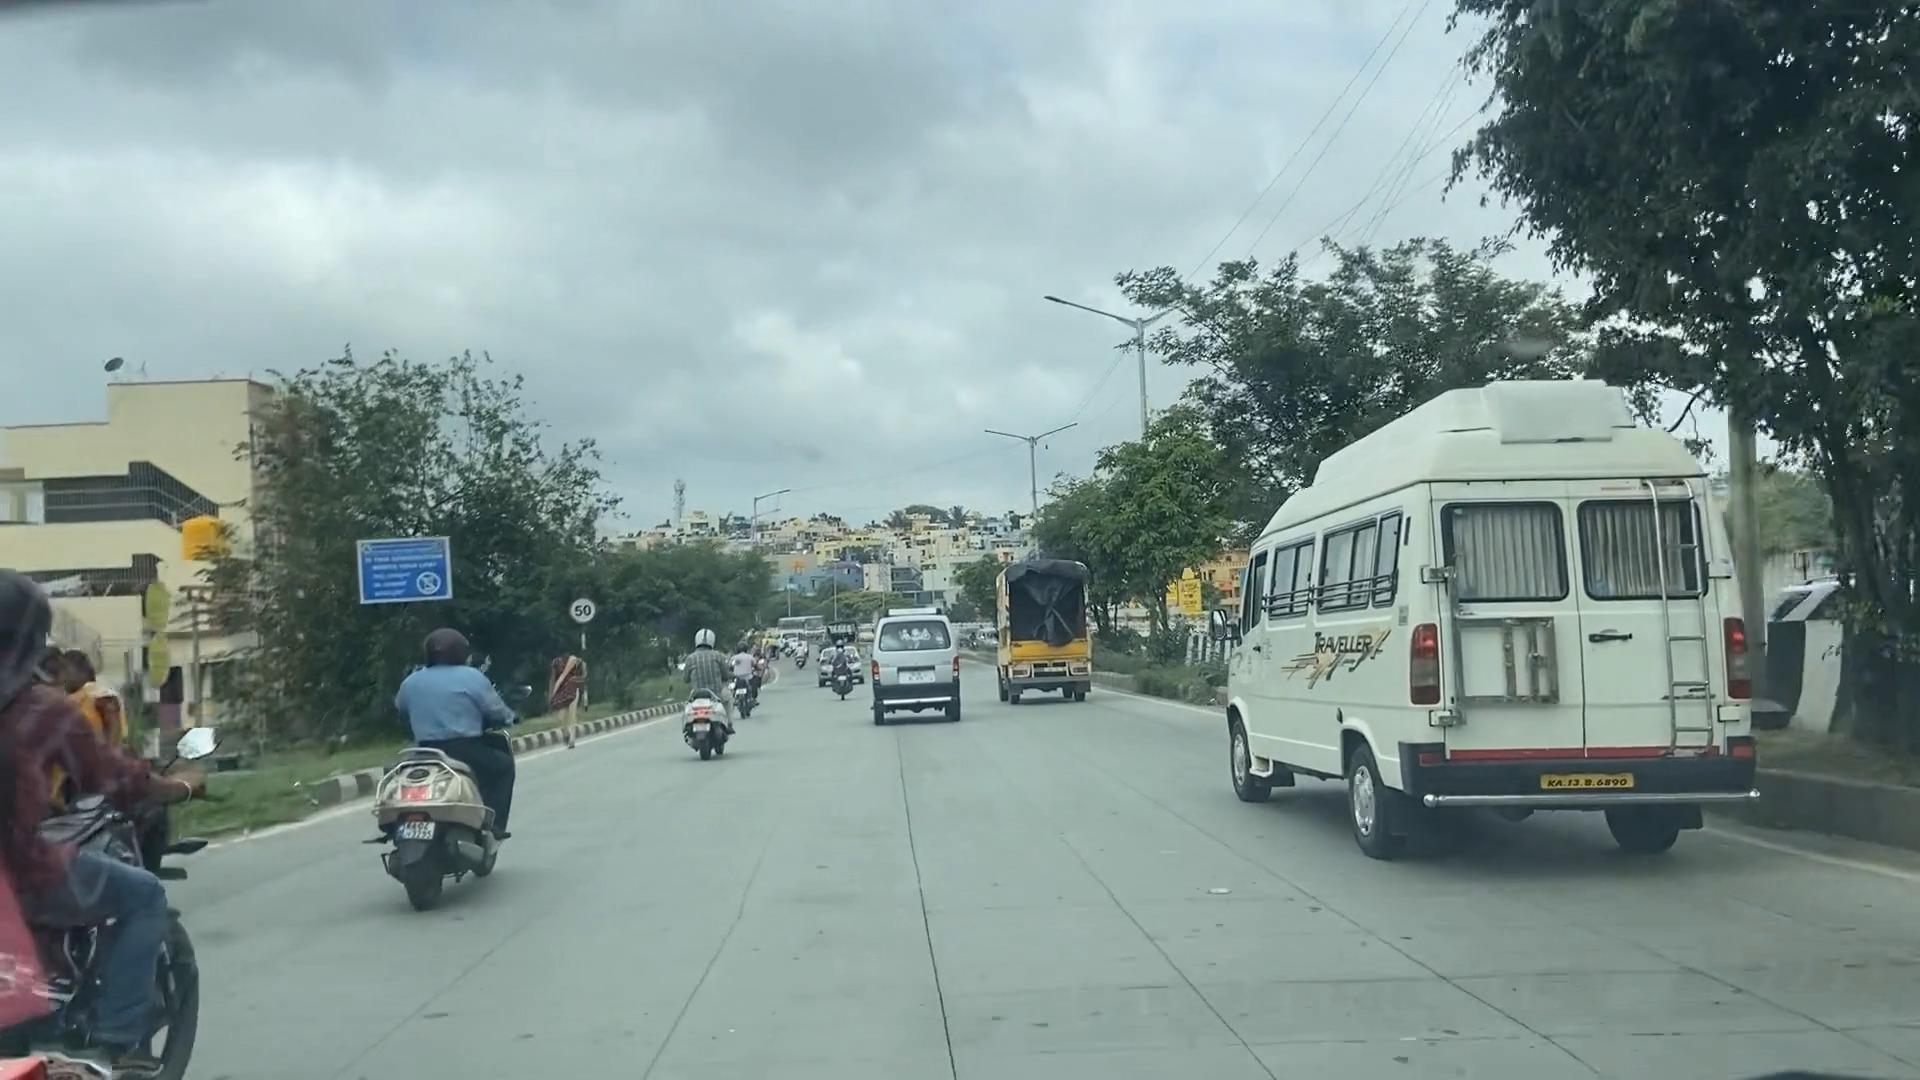HMV: (1250, 465, 1739, 894), (963, 558, 1112, 712)
LMV: (360, 621, 516, 920), (650, 605, 752, 766), (865, 597, 976, 732)
